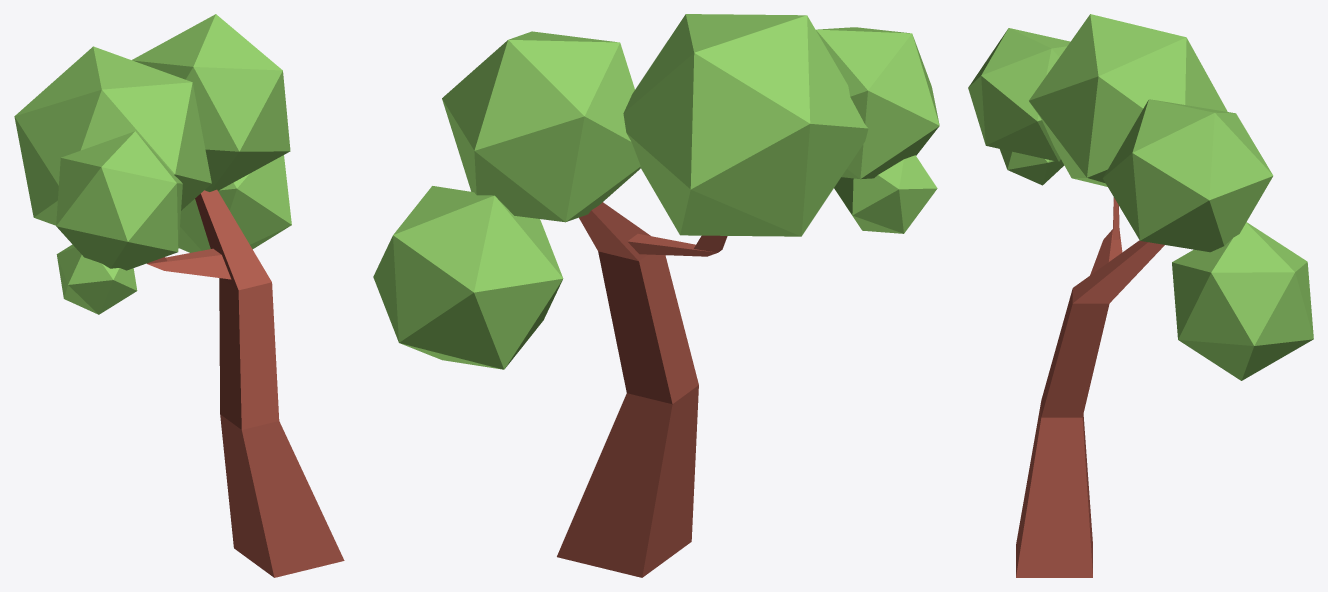
File: treenormalFinal.fbx
3 renders of one model, left to right at view 1: azimuth 30°, elevation 25°; view 2: azimuth 150°, elevation 25°; view 3: azimuth 270°, elevation 25°, orthographic. The views are drawn at different scales.
Parts seen in each view (by area): view 1: Icosphere.001; view 2: Icosphere.001; view 3: Icosphere.001.
Part boxes in pixels (bbox=[...]): Icosphere.001: bbox=[14, 14, 344, 577]; Icosphere.001: bbox=[373, 14, 939, 577]; Icosphere.001: bbox=[968, 14, 1313, 577].
Size of the model in its own units: 820 by 904 by 1228.
